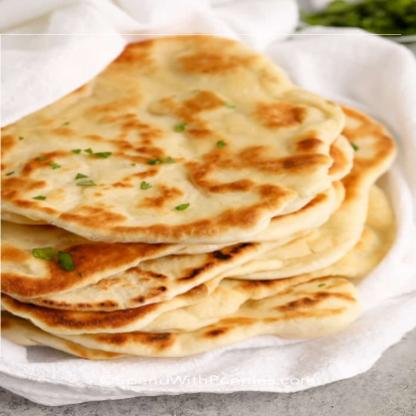naan: (0, 34, 401, 357)
